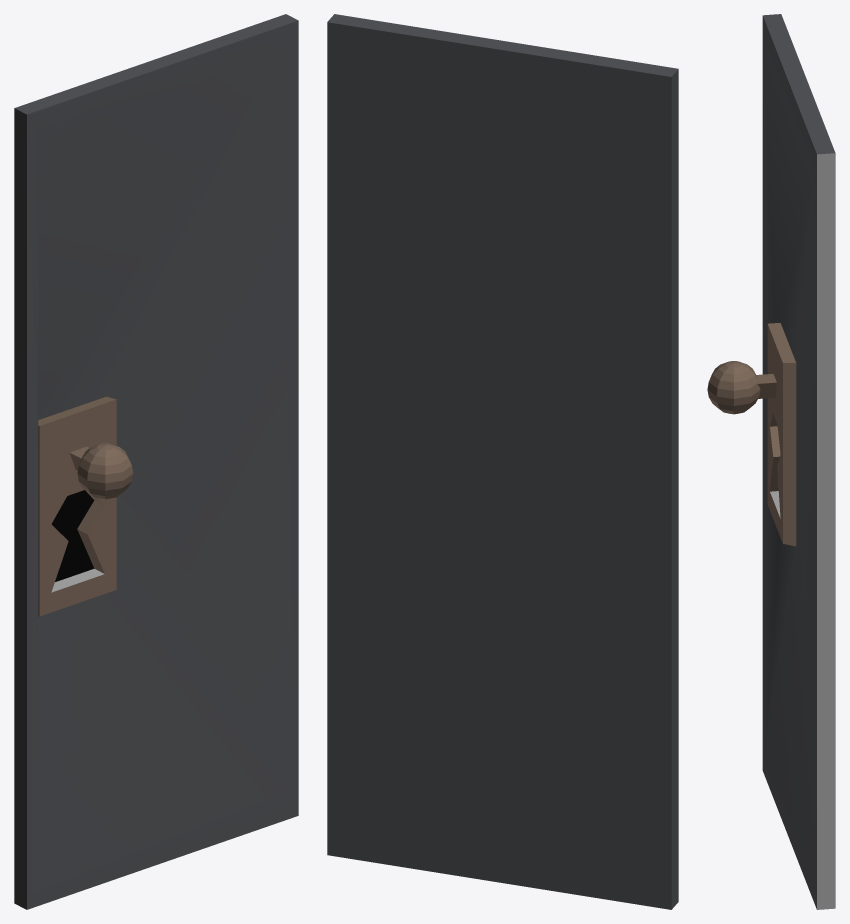
Rendered from door.fbx.
3 views of the same model, side by side, from view 1: azimuth 30°, elevation 25°; view 2: azimuth 150°, elevation 25°; view 3: azimuth 270°, elevation 25° (orthographic). The views are drawn at different scales.
Visible parts, largest first — view 1: polySurface4; view 2: polySurface4; view 3: polySurface4.
Boxes of the visible parts, box(x1,y1,x2,y2) form: polySurface4: box(14, 14, 298, 909); polySurface4: box(327, 14, 678, 909); polySurface4: box(707, 14, 835, 909).
Size of the model in its own units: 2.47 by 6.18 by 0.9504.
